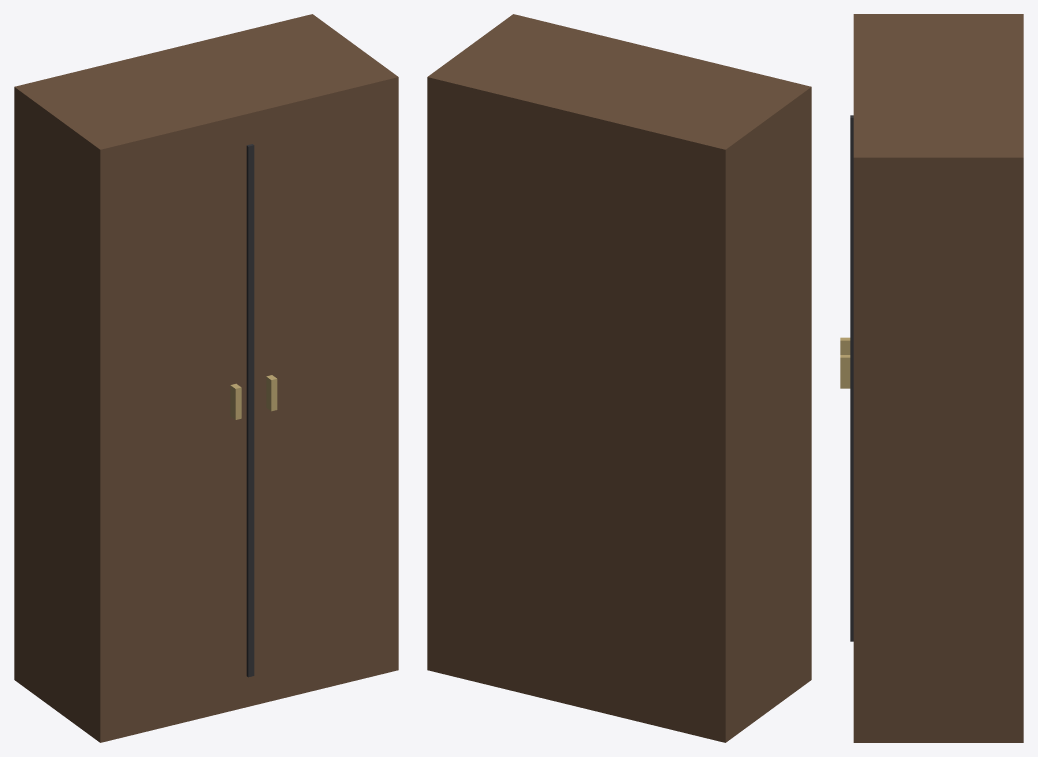
The model's file is cupboard.glb.
The picture shows the model from 3 angles, left to right: view 1: azimuth 30°, elevation 25°; view 2: azimuth 150°, elevation 25°; view 3: azimuth 270°, elevation 25°; orthographic projection.
Visible parts, largest first — view 1: cupboard; view 2: cupboard; view 3: cupboard.
Part boxes in pixels (x1=…): cupboard: x1=14, y1=14, x2=398, y2=742; cupboard: x1=427, y1=14, x2=811, y2=742; cupboard: x1=840, y1=14, x2=1023, y2=742.
Bounding box in the file's own units: 1 × 1.9 × 0.54.
